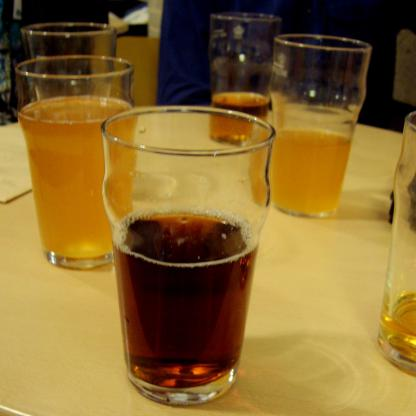drinking: (102, 106, 276, 406), (15, 55, 135, 270), (269, 34, 372, 218)
